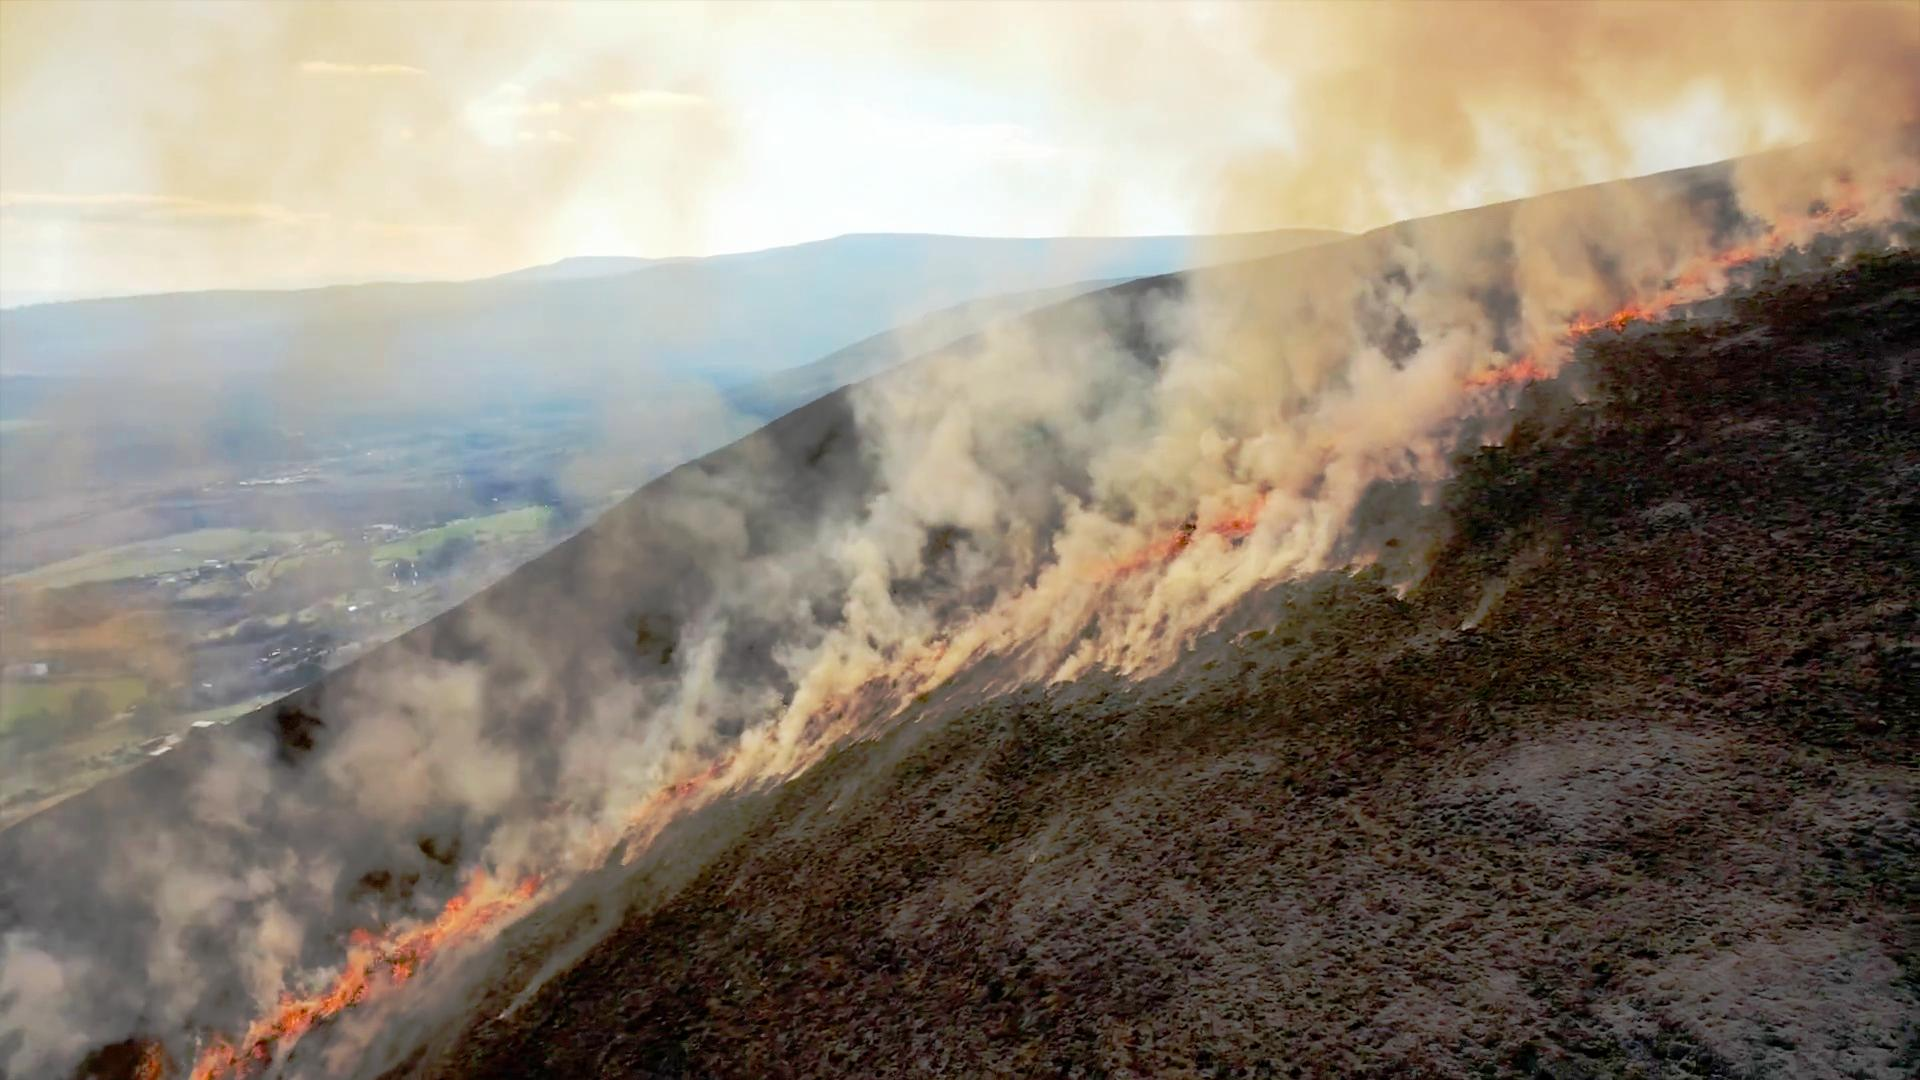smoke: (0, 0, 446, 208), (1225, 1, 1920, 131), (870, 286, 1106, 513), (1158, 315, 1451, 491), (1213, 88, 1375, 398), (360, 638, 527, 840), (1760, 0, 1920, 203), (1540, 0, 1633, 303), (1055, 513, 1201, 662), (798, 563, 981, 674)
